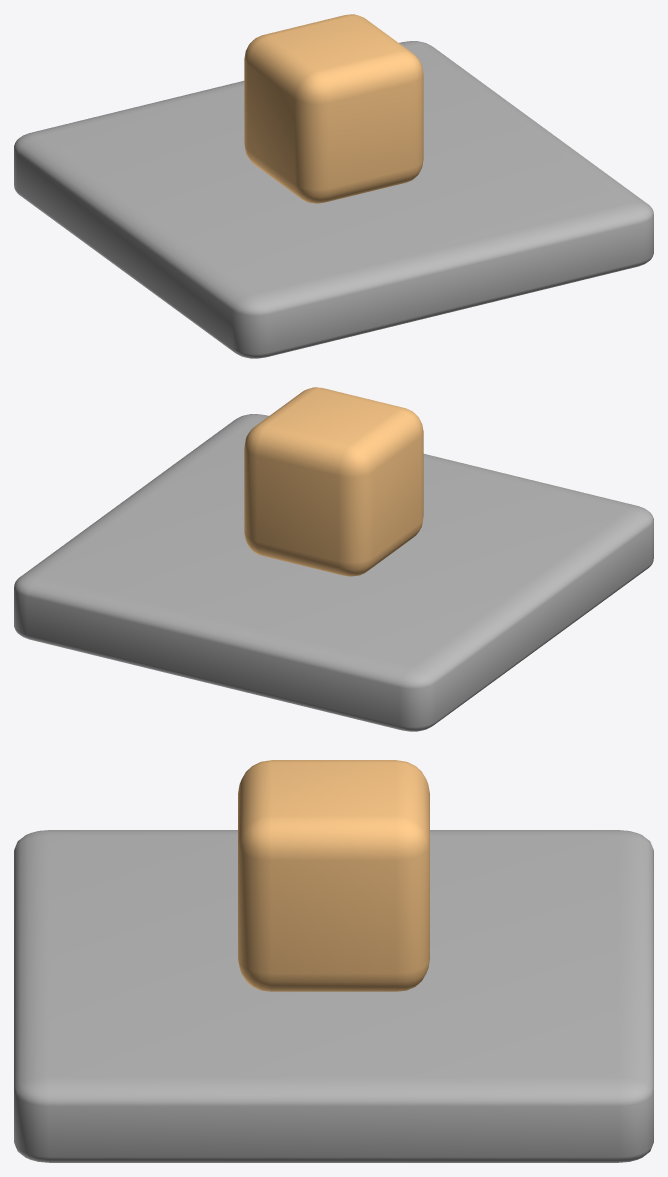
The model's file is bouncing-cube-animated-3d-icon-1317725137205.glb.
3 renders of one model, top to bottom at view 1: azimuth 30°, elevation 25°; view 2: azimuth 150°, elevation 25°; view 3: azimuth 270°, elevation 25°, orthographic. The views are drawn at different scales.
Parts seen in each view (by area): view 1: Bounce Cube, Floating Cube; view 2: Bounce Cube, Floating Cube; view 3: Bounce Cube, Floating Cube.
Boxes of the visible parts, left/top/right/bottom form: Bounce Cube: left=14, top=41, right=653, bottom=358; Floating Cube: left=244, top=14, right=423, bottom=203; Bounce Cube: left=14, top=414, right=653, bottom=731; Floating Cube: left=244, top=387, right=423, bottom=576; Bounce Cube: left=14, top=830, right=653, bottom=1162; Floating Cube: left=238, top=760, right=429, bottom=991.
Size of the model in its own units: 2 by 0.852 by 2.
